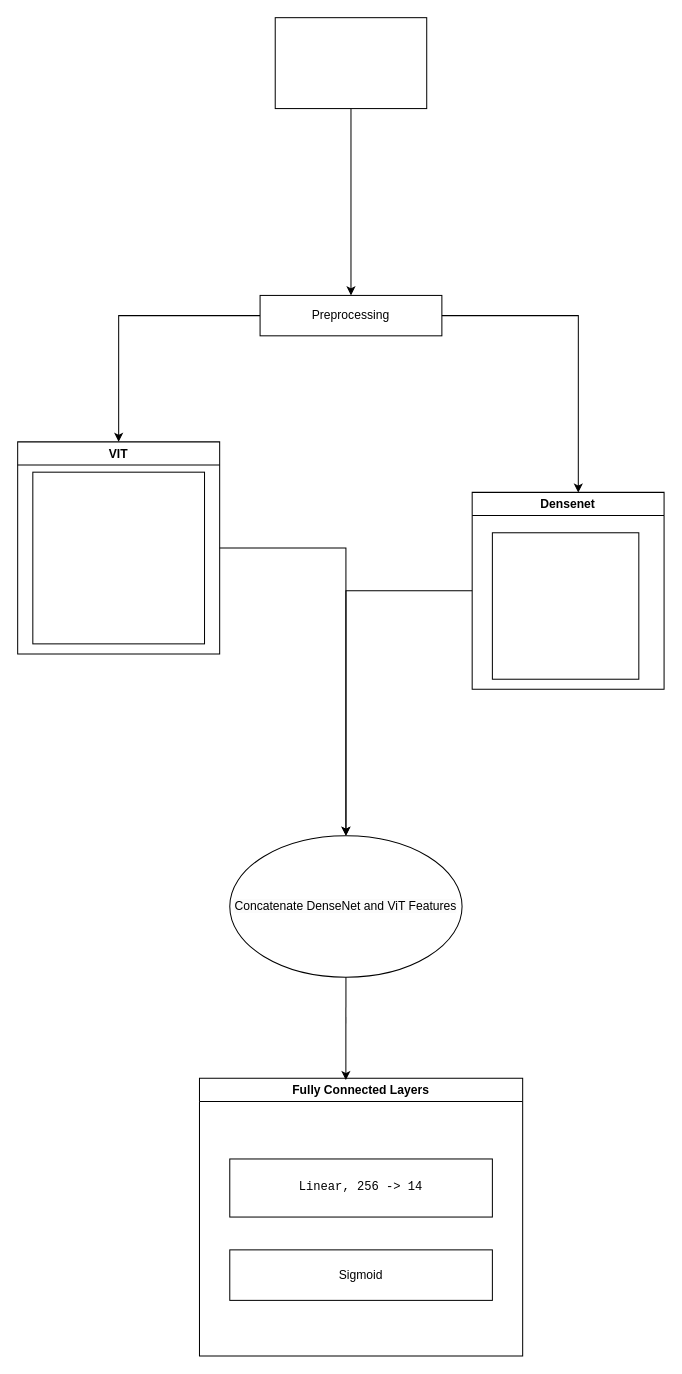
This 682x1374 diagram has some shape labels left out. The shapes that lost their labels are listed below. From the top down, each one's centre as x and y in pixels, then its label:
At pixel 350 63: "Chest X-Ray Image".
At pixel 118 557: "Vision Transformer (Pretrained ViT-B/16)".
At pixel 565 605: "DeneNet 121".
